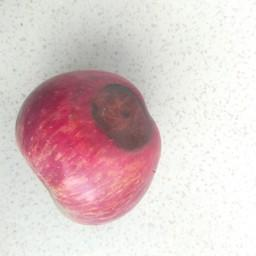Bad_apple: (7, 59, 165, 231)
